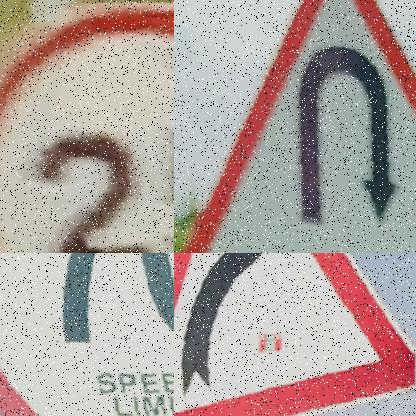Right bend: (174, 253, 413, 416)
Speed Limit (70 kmph): (0, 253, 174, 416)
Speed Limit -25 kmph-: (0, 4, 174, 253)
U-Turn: (180, 0, 416, 253)
